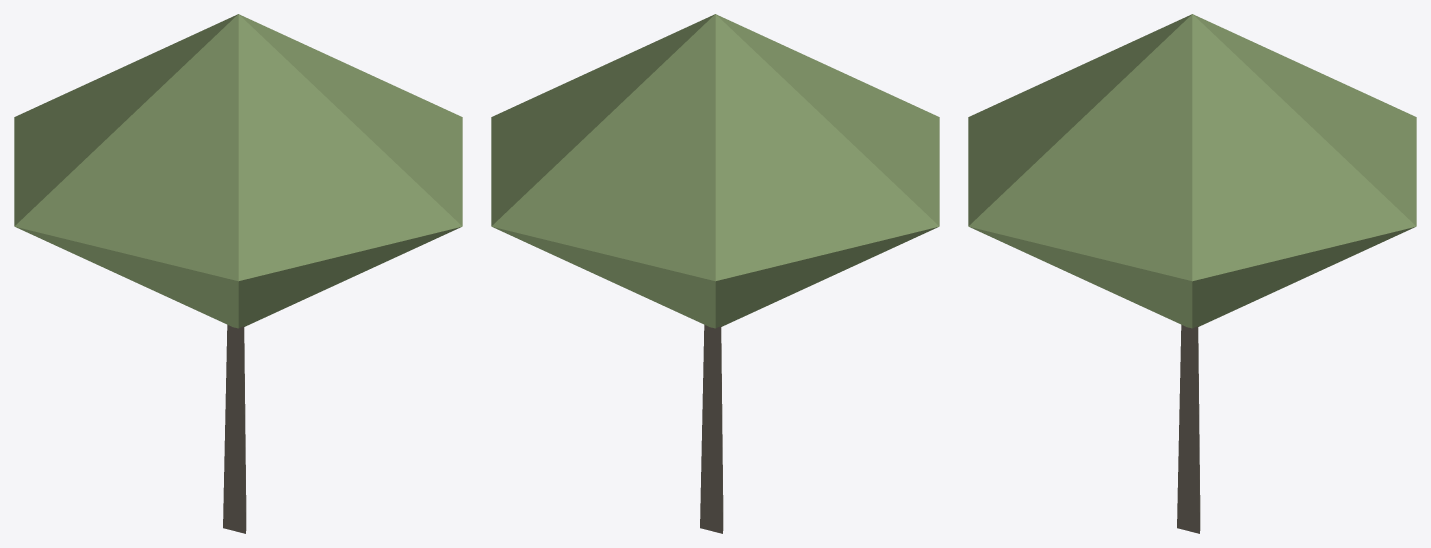
Rendered from olivier_loin.glb.
3 renders of one model, left to right at view 1: azimuth 30°, elevation 25°; view 2: azimuth 150°, elevation 25°; view 3: azimuth 270°, elevation 25°, orthographic.
Parts seen in each view (by area): view 1: olivier_loin; view 2: olivier_loin; view 3: olivier_loin.
Part boxes in pixels (left/top/right/bottom): olivier_loin: left=14, top=14, right=462, bottom=533; olivier_loin: left=491, top=14, right=939, bottom=533; olivier_loin: left=968, top=14, right=1416, bottom=533.
Bounding box in the file's own units: 5.2 × 5.7 × 4.5.
1 material, 1 textured.
